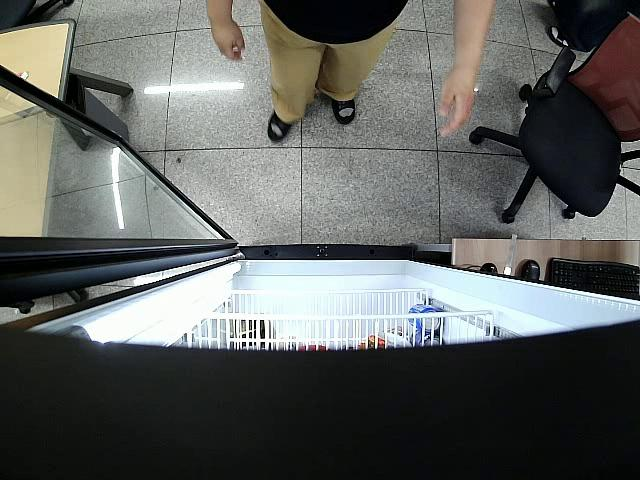00_hand: (437, 62, 476, 137), (209, 16, 248, 64)
